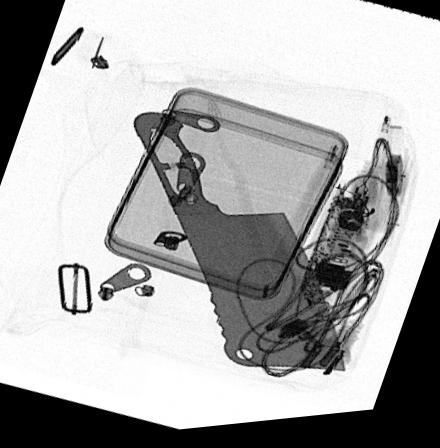Knife: (130, 112, 347, 379)
